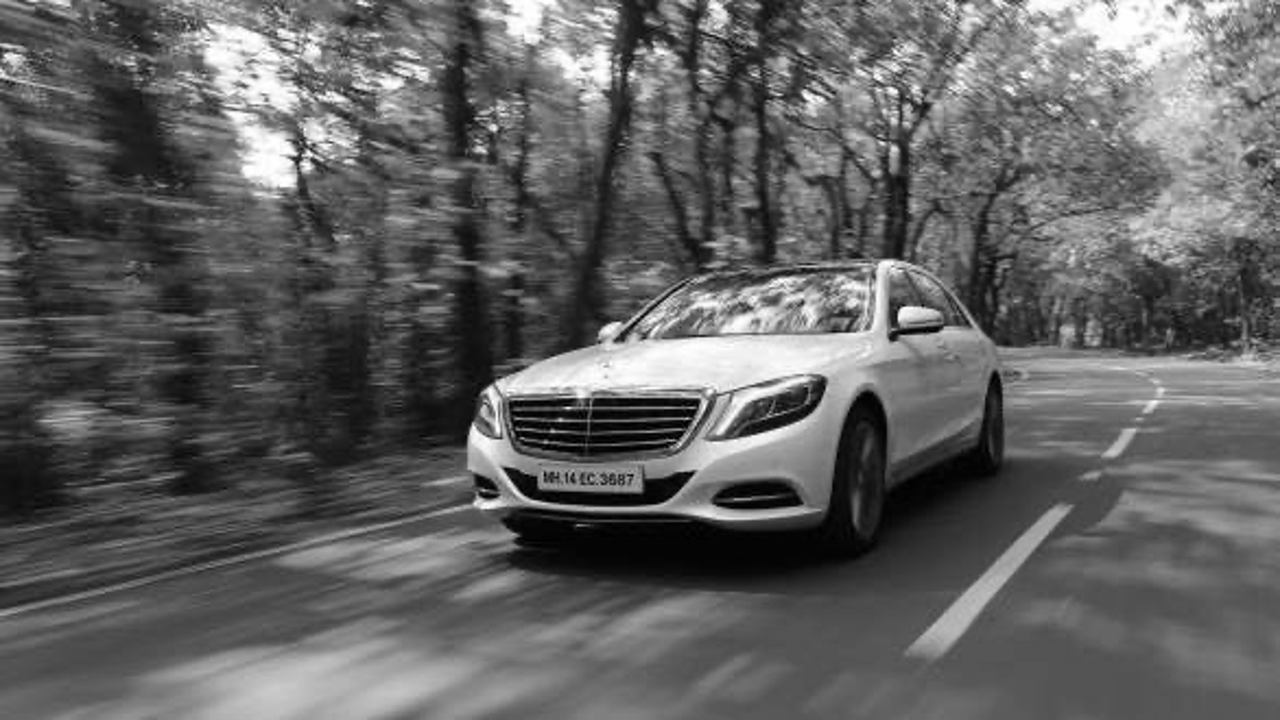license: (534, 461, 653, 497)
